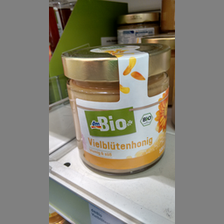honey: (58, 43, 173, 175)
